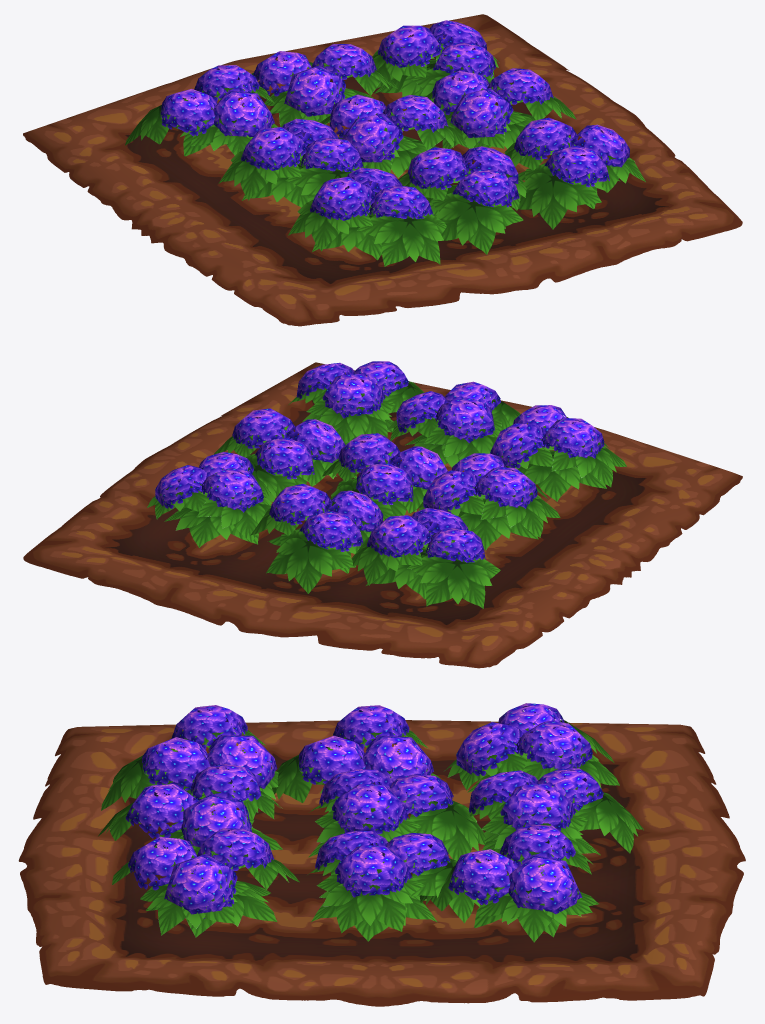
The model's file is Hydrangea_Field_Lv3.FBX.
3 views of the same model, one above another, from view 1: azimuth 30°, elevation 25°; view 2: azimuth 150°, elevation 25°; view 3: azimuth 270°, elevation 25° (orthographic). The views are drawn at different scales.
Parts seen in each view (by area): view 1: Hydrangea_Field_Lv3; view 2: Hydrangea_Field_Lv3; view 3: Hydrangea_Field_Lv3.
Boxes of the visible parts, box(x1,y1,x2,y2) form: Hydrangea_Field_Lv3: box(23, 14, 742, 326); Hydrangea_Field_Lv3: box(23, 361, 742, 668); Hydrangea_Field_Lv3: box(18, 703, 745, 1006).
Bounding box in the file's own units: 274 × 39.21 × 296.
